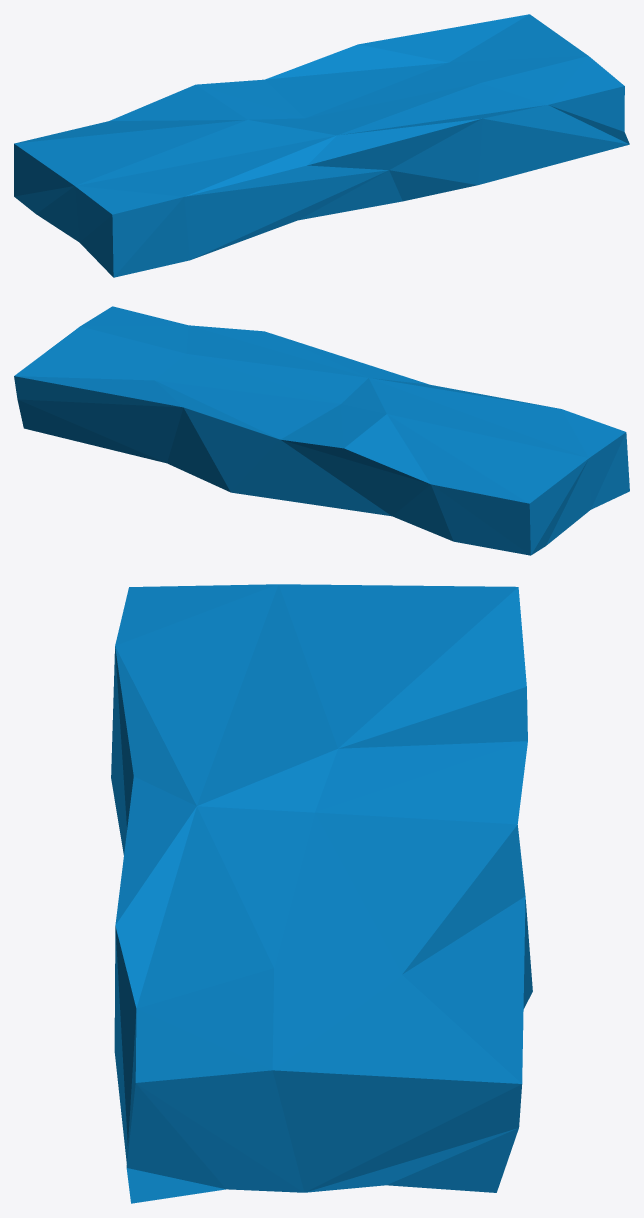
Rendered from tofe's_lowPoly_river01.fbx.
3 renders of one model, top to bottom at view 1: azimuth 30°, elevation 25°; view 2: azimuth 150°, elevation 25°; view 3: azimuth 270°, elevation 25°, orthographic. The views are drawn at different scales.
Visible parts, largest first — view 1: Cube.016; view 2: Cube.016; view 3: Cube.016.
Part boxes in pixels (x1,y1,x2,y2): Cube.016: (14,14,629,277); Cube.016: (14,306,629,555); Cube.016: (111,584,532,1203).
Size of the model in its own units: 6.09 by 0.8332 by 2.15.
